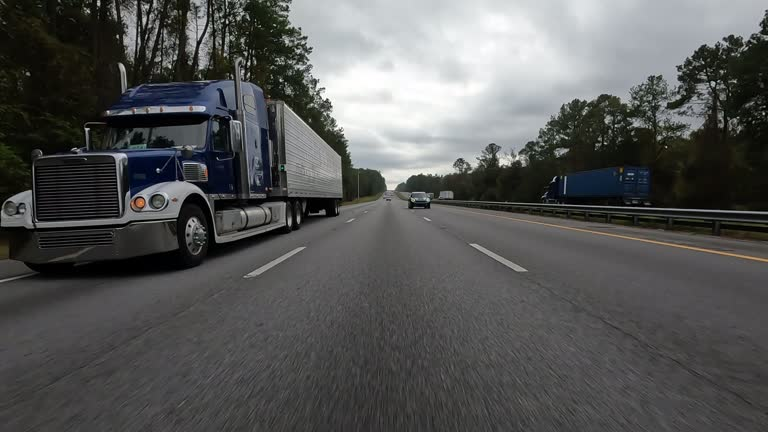Car: (406, 190, 431, 210)
Semi: (0, 55, 342, 276), (539, 167, 650, 210)
